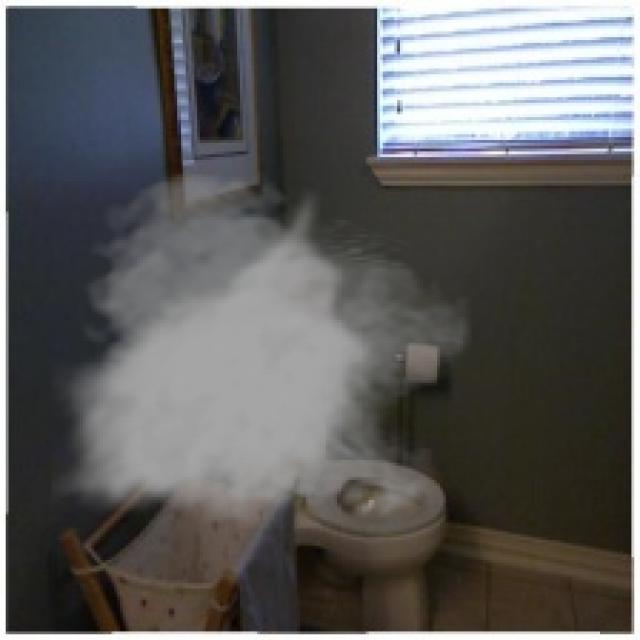smoke: (51, 168, 472, 528)
